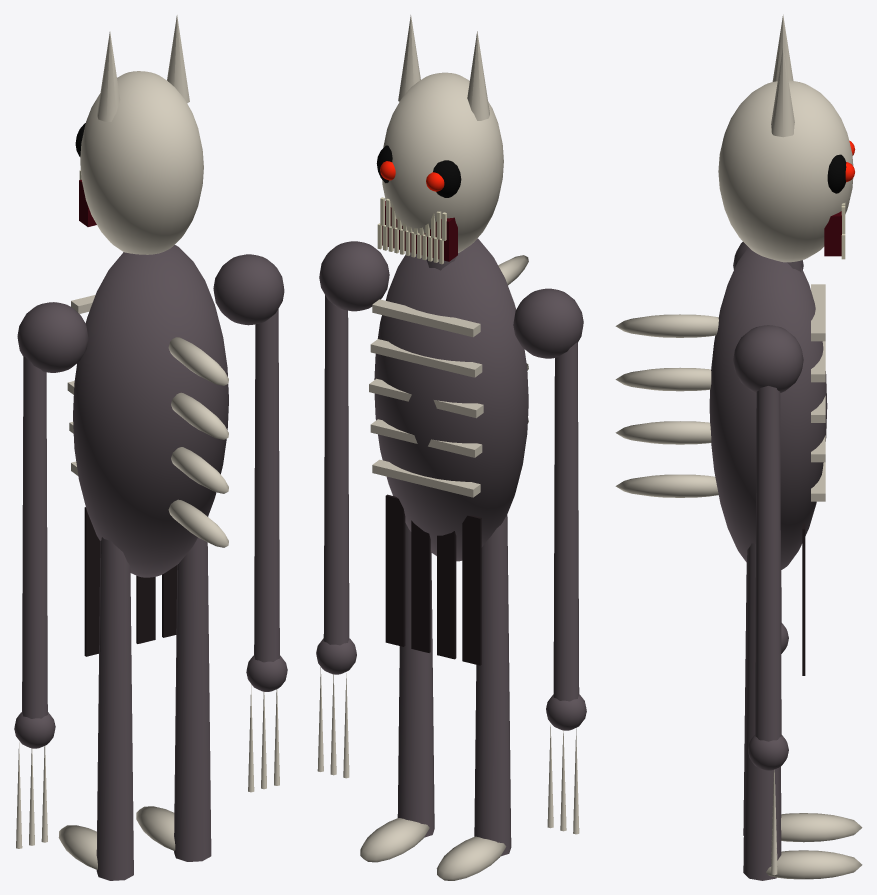
Rendered from Monster.obj.
3 renders of one model, left to right at view 1: azimuth 30°, elevation 25°; view 2: azimuth 150°, elevation 25°; view 3: azimuth 270°, elevation 25°, orthographic.
Parts seen in each view (by area): view 1: Monster; view 2: Monster; view 3: Monster.
Boxes of the visible parts, bbox=[...] form: Monster: bbox=[14, 15, 287, 880]; Monster: bbox=[316, 15, 586, 880]; Monster: bbox=[615, 14, 862, 880].
Size of the model in its own units: 1.04 by 3.1 by 0.84.
